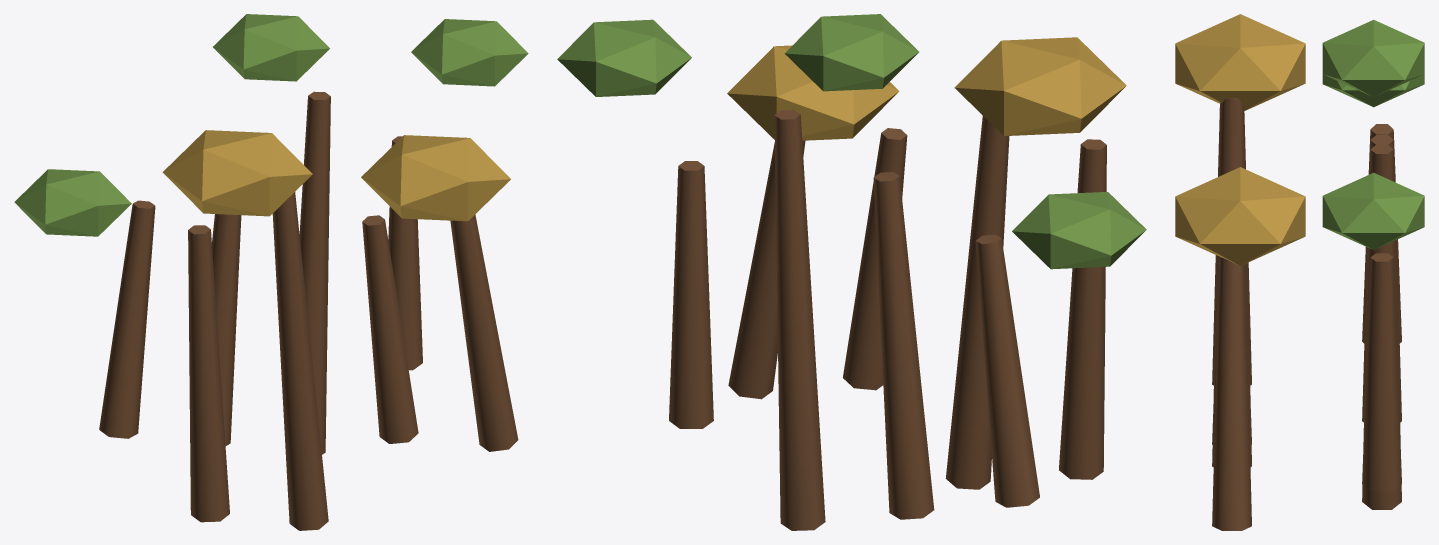
File: dynamic-focus.glb
3 views of the same model, side by side, from view 1: azimuth 30°, elevation 25°; view 2: azimuth 150°, elevation 25°; view 3: azimuth 270°, elevation 25° (orthographic). The views are drawn at different scales.
Visible parts, largest first — view 1: stem_5, stem_4, bloom_1, bloom_3, stem_7, stem_0, stem_2, stem_6, bloom_2, bloom_4, bloom_0, stem_1 (+1 smaller); view 2: stem_2, stem_1, bloom_1, stem_5, stem_4, stem_0, stem_3, bloom_3, bloom_4, bloom_0, bloom_2, stem_7 (+1 smaller); view 3: bloom_3, stem_7, bloom_1, stem_3, bloom_2, bloom_4, stem_2, stem_5, bloom_0, stem_1, stem_0, stem_6 (+1 smaller).
Part boxes in pixels (left/top/right/bottom): stem_5: left=272, top=192, right=328, bottom=530; stem_4: left=188, top=225, right=229, bottom=522; bloom_1: left=162, top=130, right=312, bottom=216; bloom_3: left=361, top=135, right=510, bottom=221; stem_7: left=450, top=214, right=518, bottom=451; stem_0: left=99, top=200, right=155, bottom=438; stem_2: left=299, top=91, right=330, bottom=454; stem_6: left=362, top=215, right=418, bottom=443; bloom_2: left=213, top=14, right=329, bottom=81; bloom_4: left=411, top=19, right=528, bottom=86; bloom_0: left=14, top=169, right=131, bottom=236; stem_1: left=212, top=214, right=241, bottom=445; stem_2: left=774, top=110, right=825, bottom=530; stem_1: left=873, top=172, right=934, bottom=519; bloom_1: left=954, top=37, right=1126, bottom=135; stem_5: left=945, top=116, right=1009, bottom=489; stem_4: left=1059, top=139, right=1106, bottom=479; stem_0: left=975, top=234, right=1039, bottom=507; stem_3: left=669, top=161, right=713, bottom=428; bloom_3: left=727, top=45, right=899, bottom=140; bloom_4: left=557, top=19, right=691, bottom=96; bloom_0: left=1012, top=192, right=1146, bottom=269; bloom_2: left=784, top=14, right=918, bottom=91; stem_7: left=728, top=140, right=805, bottom=399; bloom_3: left=1175, top=167, right=1305, bottom=265; stem_7: left=1212, top=256, right=1251, bottom=530; bloom_1: left=1175, top=14, right=1305, bottom=111; stem_3: left=1362, top=253, right=1401, bottom=491; bloom_2: left=1322, top=19, right=1424, bottom=96; bloom_4: left=1322, top=172, right=1424, bottom=249; stem_2: left=1362, top=144, right=1401, bottom=509; stem_5: left=1212, top=98, right=1251, bottom=466; bloom_0: left=1322, top=74, right=1424, bottom=107; stem_1: left=1362, top=135, right=1401, bottom=422; stem_0: left=1362, top=124, right=1401, bottom=343; stem_6: left=1212, top=256, right=1251, bottom=445.
Size of what is drawn, in the model's own units: 1.71 by 1.49 by 0.7488.
